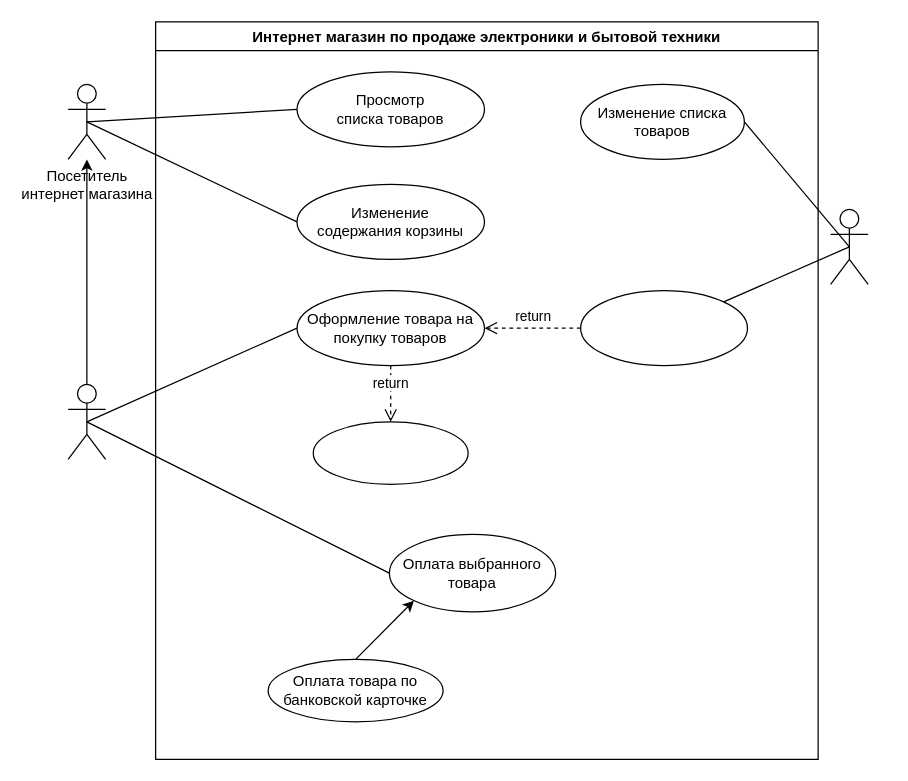
Some shapes in this 908 by 781 pixel diagram are drawn without their labels. Here are the shapes that lost their labels. From the top down, the box of each, then its label:
(829, 208, 868, 284): Менеджер
(579, 289, 748, 366): Предоставление бонусной скидки
(67, 383, 106, 459): Покупатель
(312, 421, 468, 484): Регистрация покупателя
